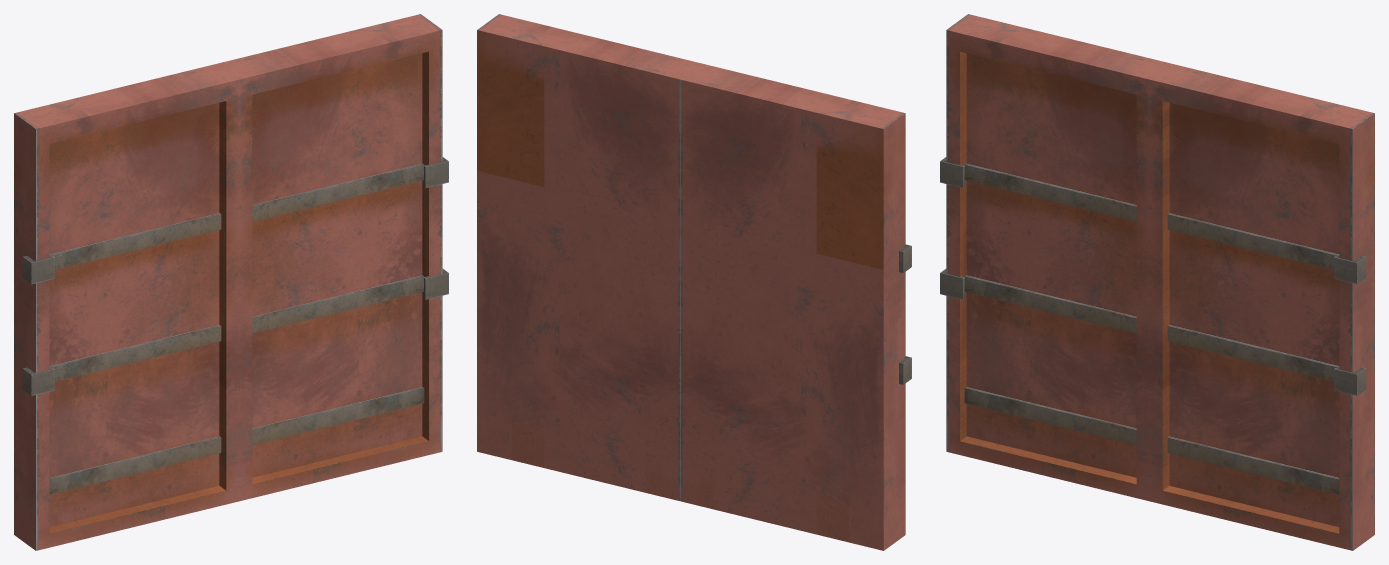
File: Irondoor_S.fbx
The picture shows the model from 3 angles, left to right: view 1: azimuth 30°, elevation 25°; view 2: azimuth 150°, elevation 25°; view 3: azimuth 330°, elevation 25°; orthographic projection.
Visible parts, largest first — view 1: Irondoor; view 2: Irondoor; view 3: Irondoor.
Boxes of the visible parts, x1,y1,x2,y2 form: Irondoor: (14,14,448,550); Irondoor: (477,14,911,550); Irondoor: (940,14,1374,550).
Size of the model in its own units: 172 by 166 by 16.2.
Materials: 1 (1 with a texture image).
